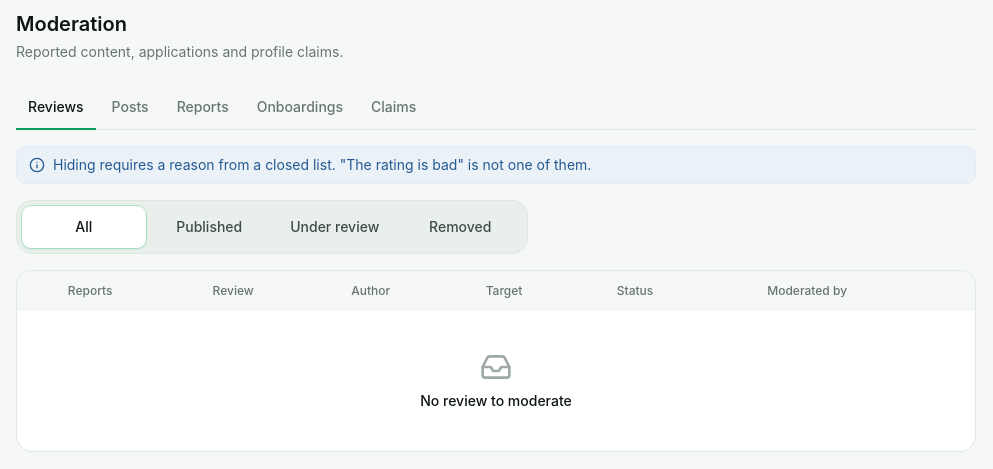
it: PlatformModerationPage — /platform/moderation › distingue un post masqué par la modération d’un post masqué par son auteur
// Radix ne monte que le panneau actif : il faut vraiment aller sur l'onglet.
Click the tab "Posts". click: (130, 108)
box: x1=100 y1=86 x2=161 y2=130
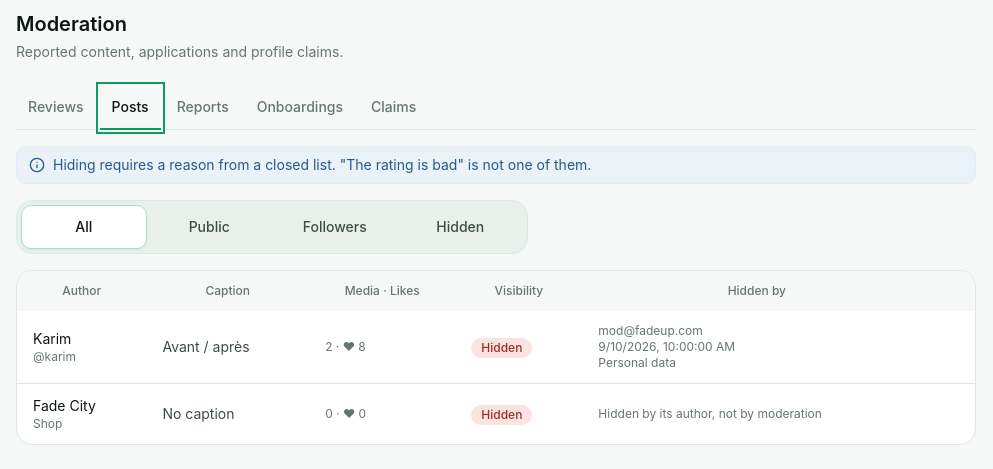
Check: the text "mod@fadeup.com" is shown, box x1=598 y1=323 x2=703 y2=338
Check: the text "Personal data" is shown, box x1=598 y1=355 x2=676 y2=370
Check: the text "Hidden by its author, not by moderation" is shown, box x1=598 y1=406 x2=822 y2=421
